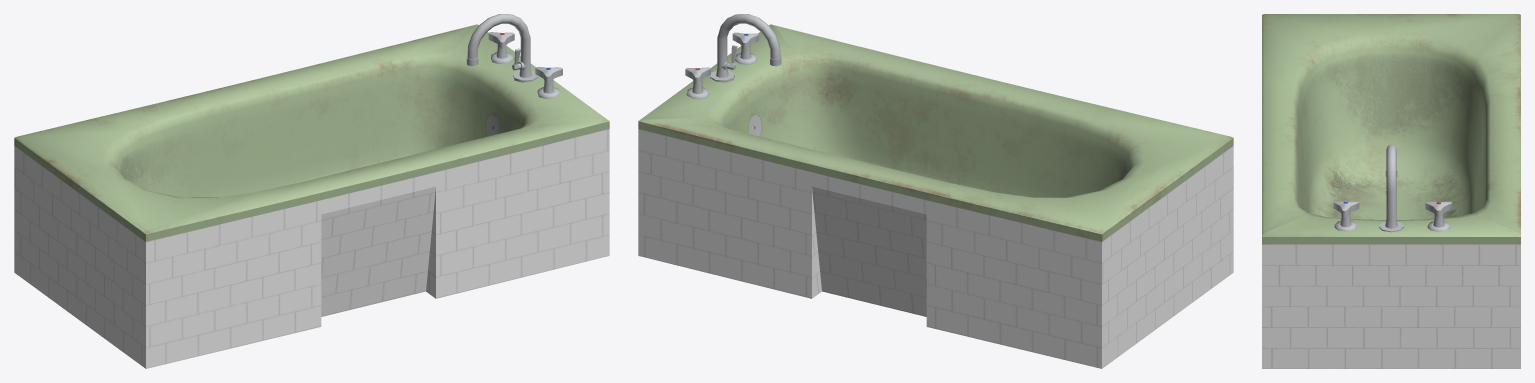
Rendered from Bathtub_anim.fbx.
3 renders of one model, left to right at view 1: azimuth 30°, elevation 25°; view 2: azimuth 150°, elevation 25°; view 3: azimuth 270°, elevation 25°, orthographic.
Parts seen in each view (by area): view 1: Bathtub_LOD0; view 2: Bathtub_LOD0; view 3: Bathtub_LOD0.
Part boxes in pixels (box(x1,y1,x2,y2)): Bathtub_LOD0: box(14, 14, 609, 368); Bathtub_LOD0: box(638, 14, 1233, 368); Bathtub_LOD0: box(1262, 14, 1520, 368).
Size of what is drawn, in the model's own units: 2.98 by 1.47 by 1.26.
Materials: 3 (3 with a texture image).
